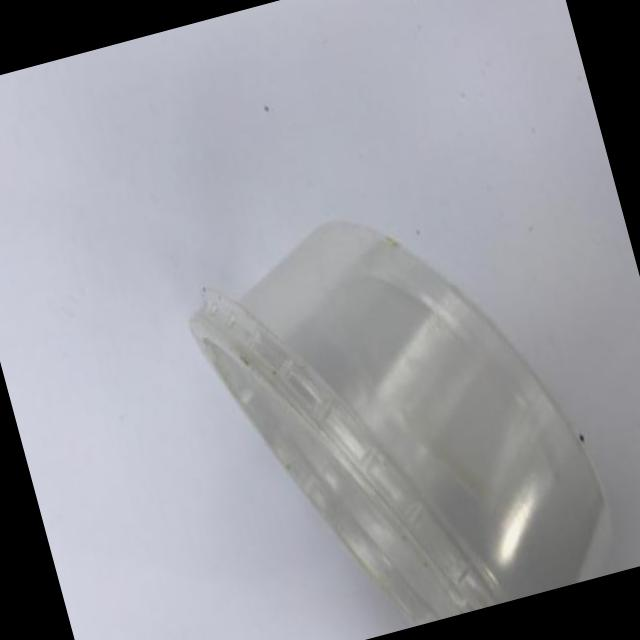Recycle: (171, 168, 626, 640)
